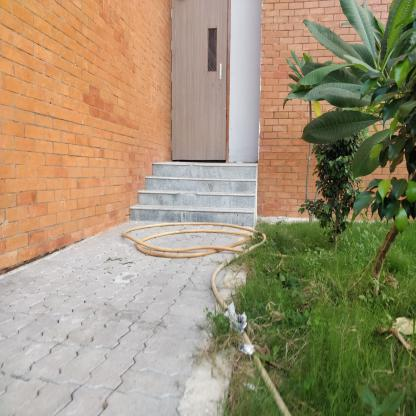stairs: (150, 166, 257, 231)
